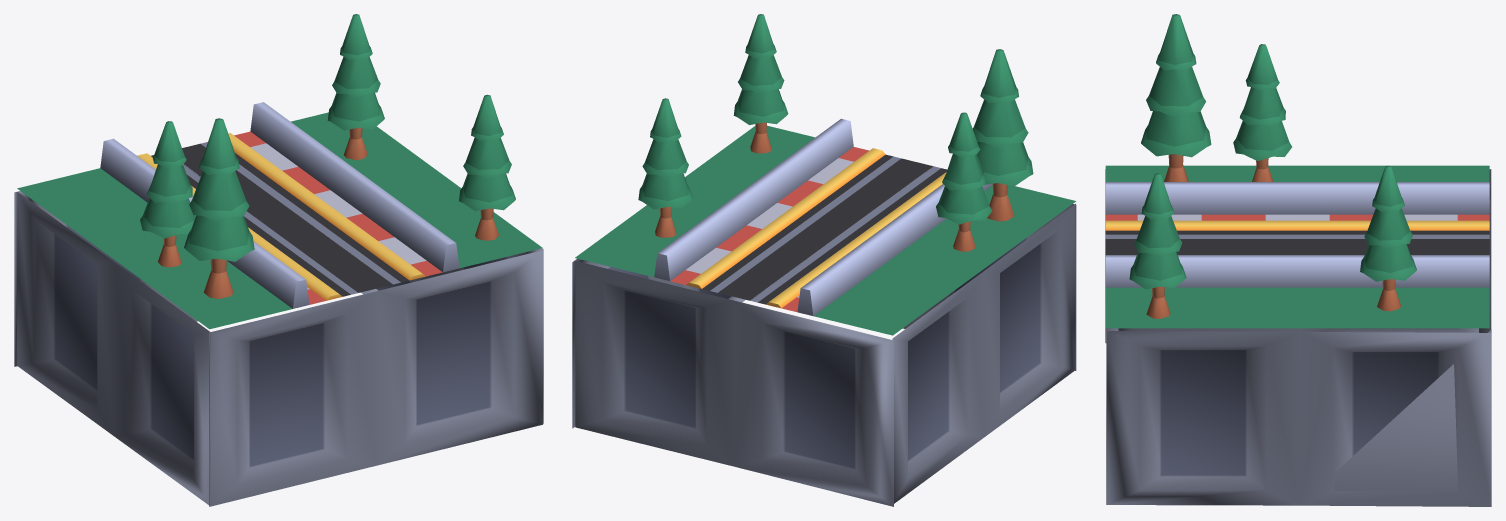
Rendered from elev-thin-straight.glb.
The picture shows the model from 3 angles, left to right: view 1: azimuth 30°, elevation 25°; view 2: azimuth 150°, elevation 25°; view 3: azimuth 270°, elevation 25°; orthographic projection. The views are drawn at different scales.
Parts seen in each view (by area): view 1: track-straight.011; view 2: track-straight.011; view 3: track-straight.011.
Boxes of the visible parts, box(x1,y1,x2,y2) form: track-straight.011: box(14, 14, 543, 506); track-straight.011: box(572, 14, 1076, 506); track-straight.011: box(1105, 14, 1491, 506).
Bounding box in the file's own units: 10.1 × 10.05 × 10.06.
4 materials, 4 textured.
